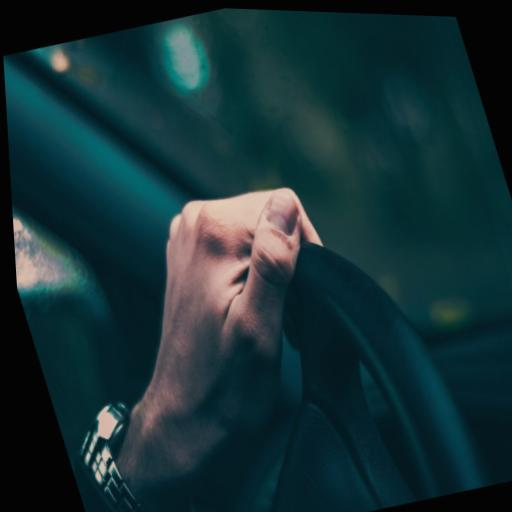Hands-on-the-Wheel: (50, 123, 413, 511)
